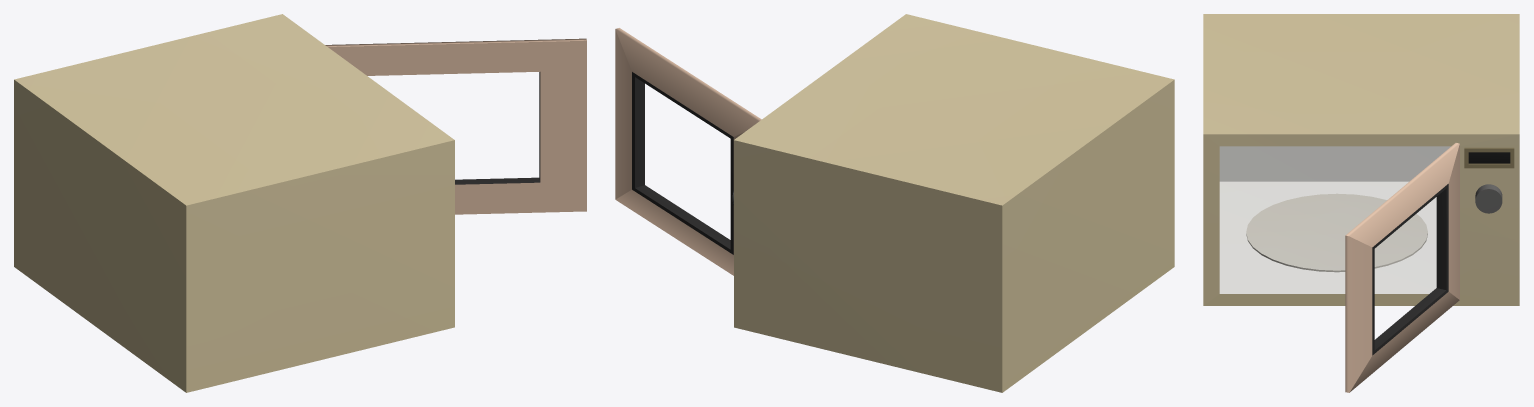
File: Micro.fbx
The picture shows the model from 3 angles, left to right: view 1: azimuth 30°, elevation 25°; view 2: azimuth 150°, elevation 25°; view 3: azimuth 270°, elevation 25°; orthographic projection. The views are drawn at different scales.
Parts seen in each view (by area): view 1: Microwave, Door; view 2: Microwave, Door; view 3: Microwave, Door.
Part boxes in pixels (x1,y1,x2,y2): Microwave: (14,14,454,392); Door: (325,38,586,214); Microwave: (732,14,1174,392); Door: (615,28,761,275); Microwave: (1203,14,1519,305); Door: (1345,143,1459,392).
Size of the model in its own units: 161 by 60 by 100.
